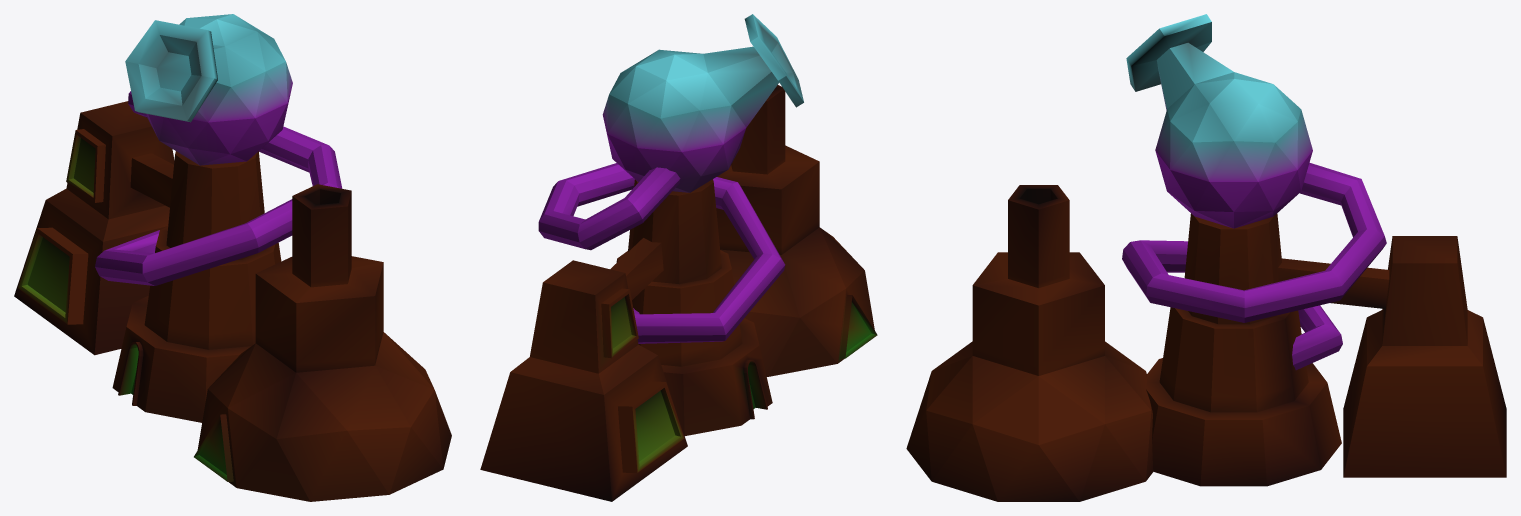
Rendered from AlchemyLab3.fbx.
3 views of the same model, side by side, from view 1: azimuth 30°, elevation 25°; view 2: azimuth 150°, elevation 25°; view 3: azimuth 270°, elevation 25° (orthographic). The views are drawn at different scales.
Visible parts, largest first — view 1: AlchemyLab.002; view 2: AlchemyLab.002; view 3: AlchemyLab.002.
Boxes of the visible parts, box(x1,y1,x2,y2) form: AlchemyLab.002: box(14, 14, 451, 501); AlchemyLab.002: box(480, 14, 877, 501); AlchemyLab.002: box(906, 14, 1506, 501).
Bounding box in the file's own units: 253 × 401 × 557.
